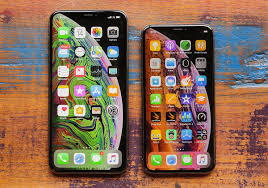iphone: (48, 9, 129, 177), (141, 21, 216, 175)
iphone10: (48, 9, 129, 177), (143, 23, 216, 175)
